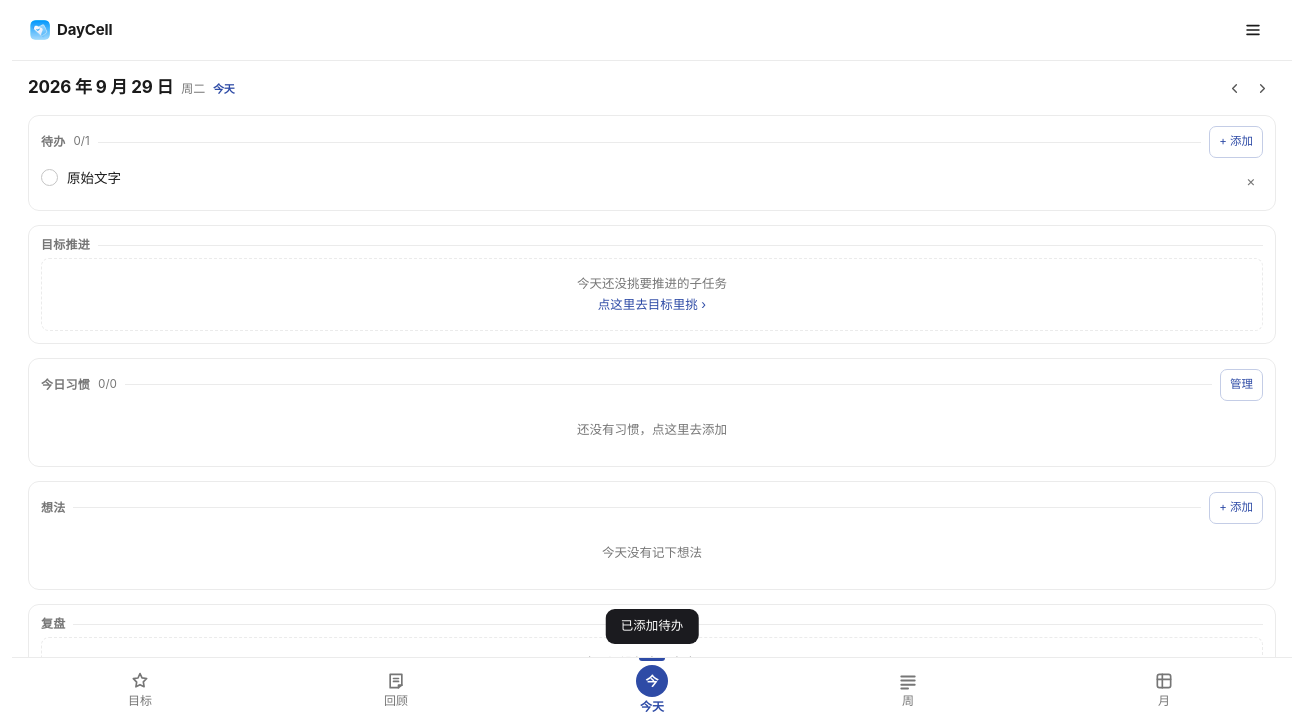
Test case: App 冒烟 › v8.91 就地编辑待办有「保存 / 取消」：保存写回、取消不写
Expected: the text "原始文字" is shown, [67,170,121,186]
Click the button with aria-label "编辑待办：原始文字" at (94, 178), box [63,166,1234,190]
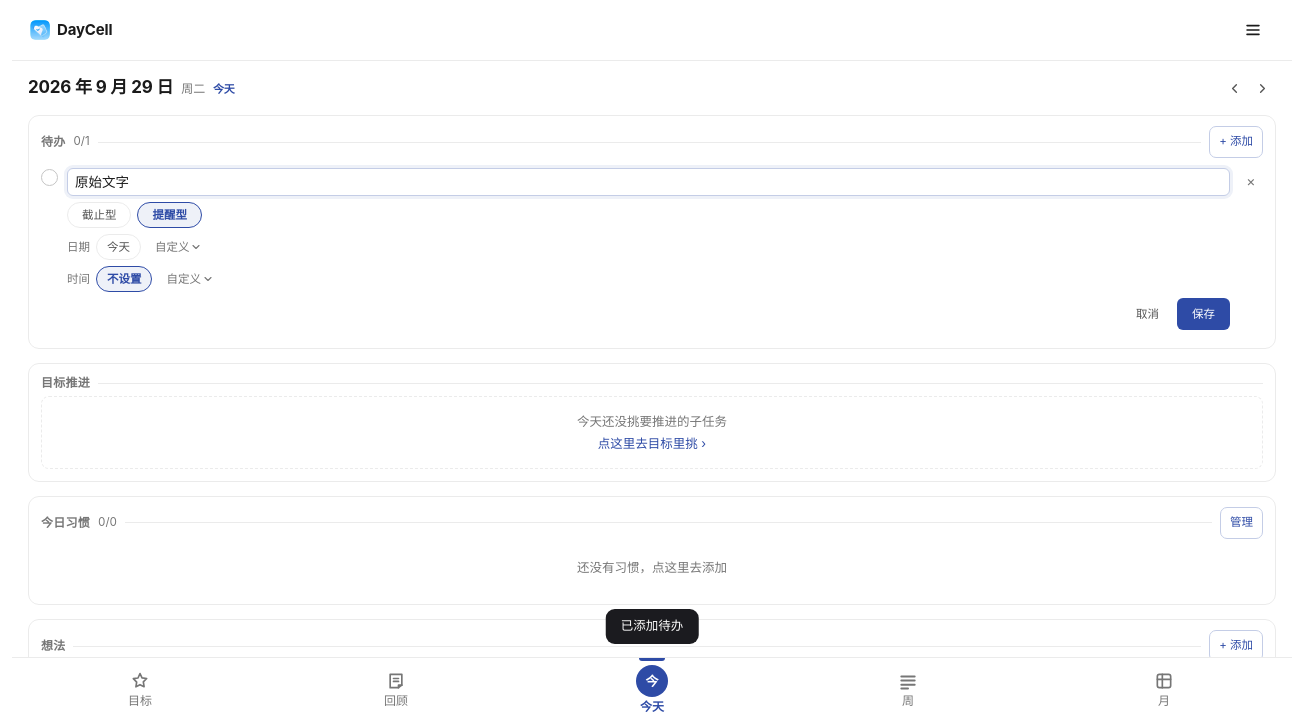
Replace the text in the field named "编辑待办" with "改后文字" at (648, 182), box [67,168,1230,196]
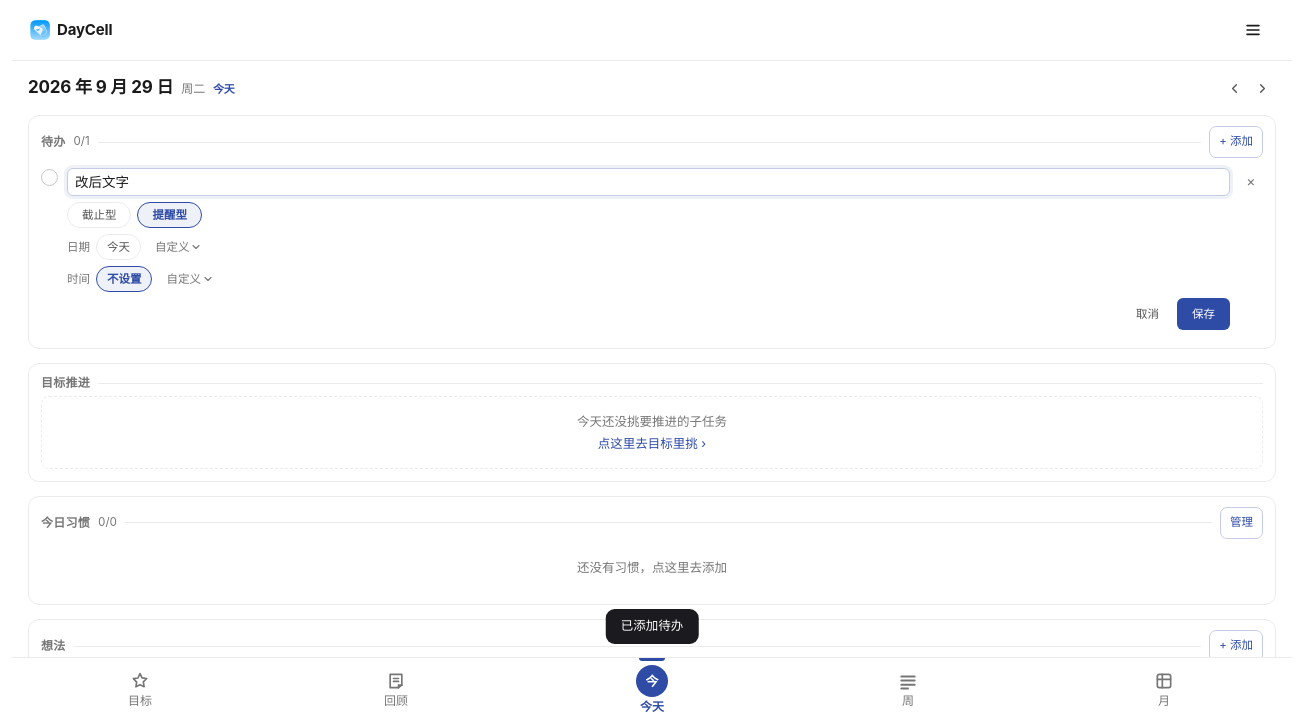
Click the button "保存" at (1204, 314), box [1177,298,1230,330]
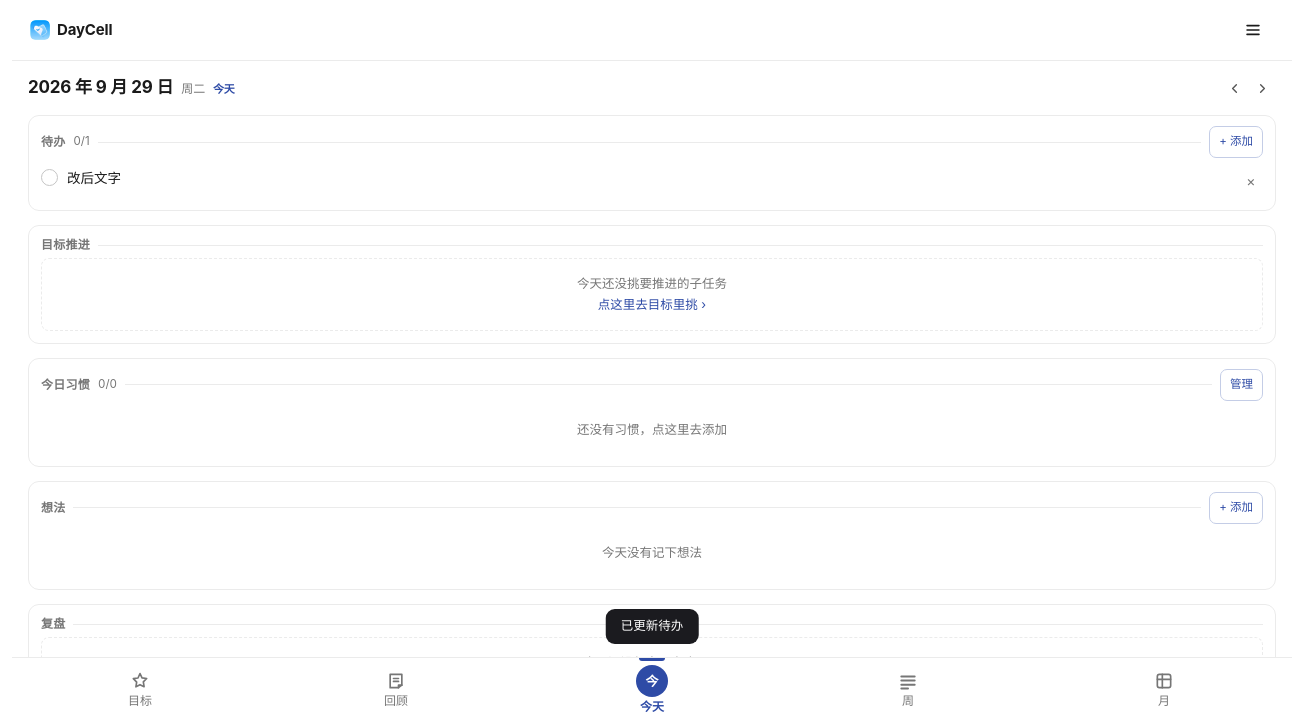
Result: the text "改后文字" is shown at [67,170,121,186]
Click the button with aria-label "编辑待办：改后文字" at (94, 178), box [63,166,1234,190]
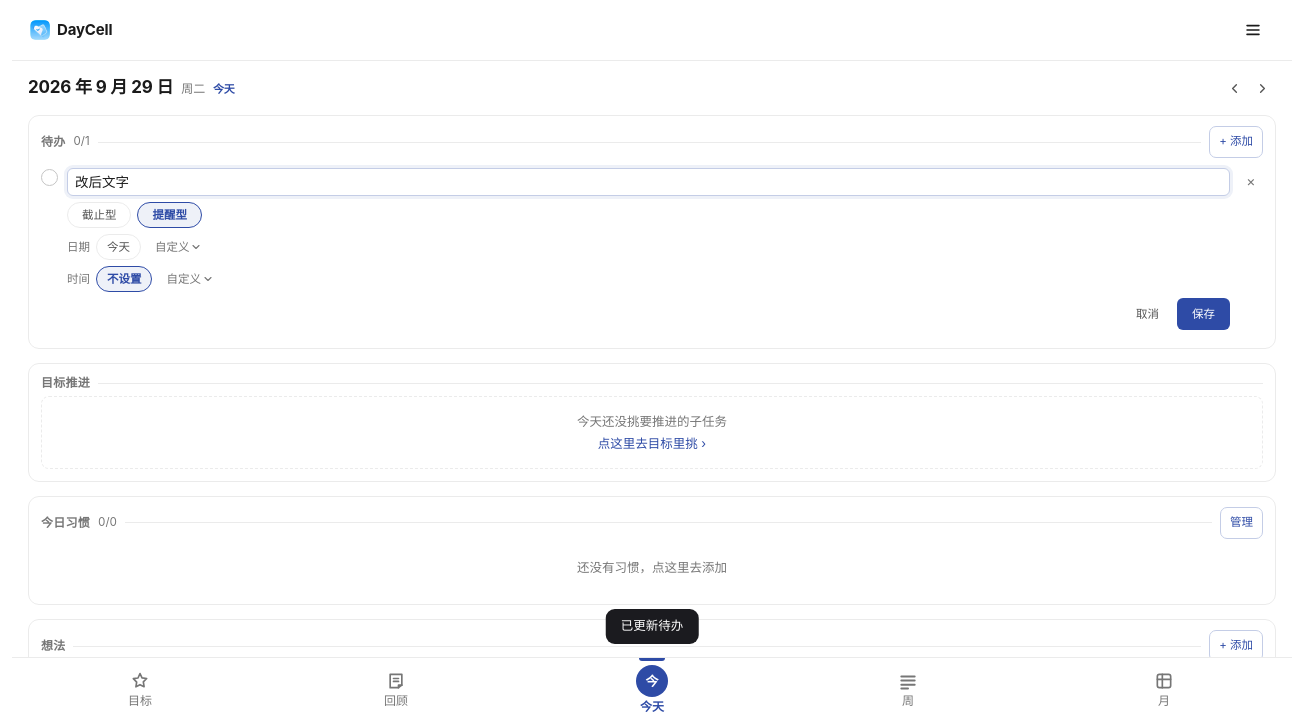
Replace the text in the field named "编辑待办" with "不该保存" at (648, 182), box [67,168,1230,196]
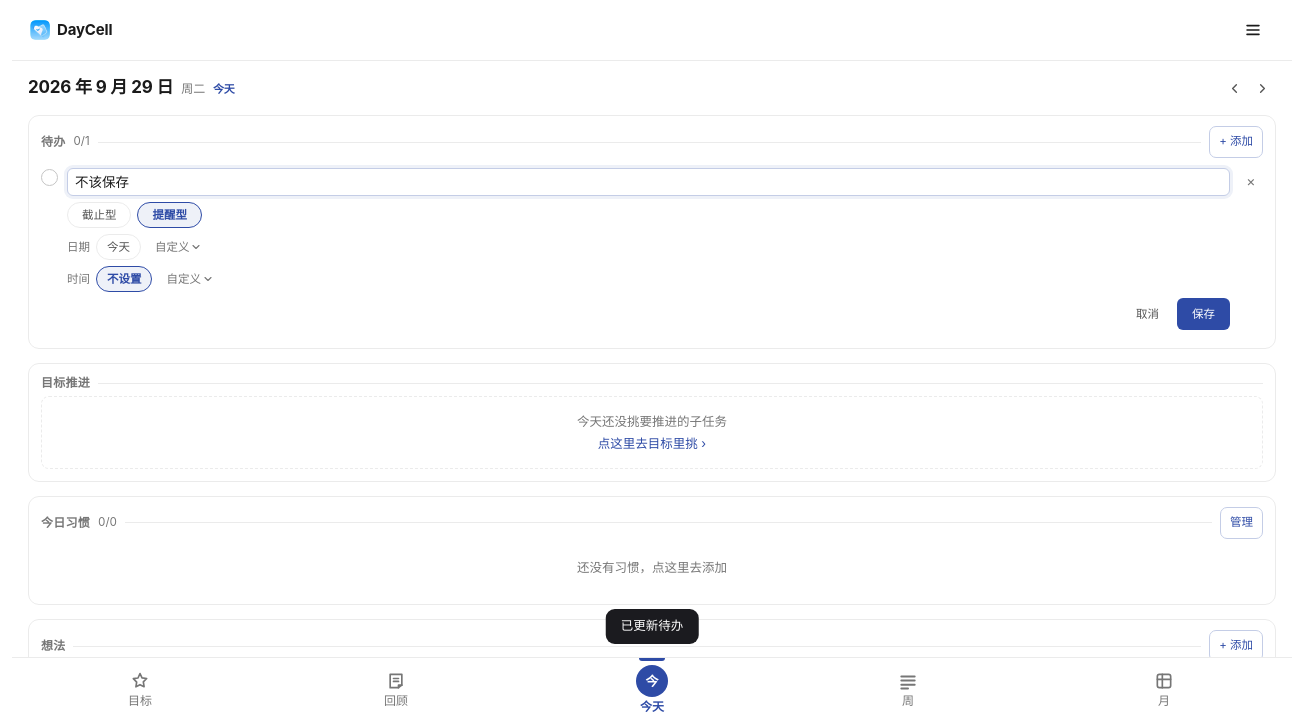
Click the button "取消" at (1148, 314), box [1125,298,1170,330]
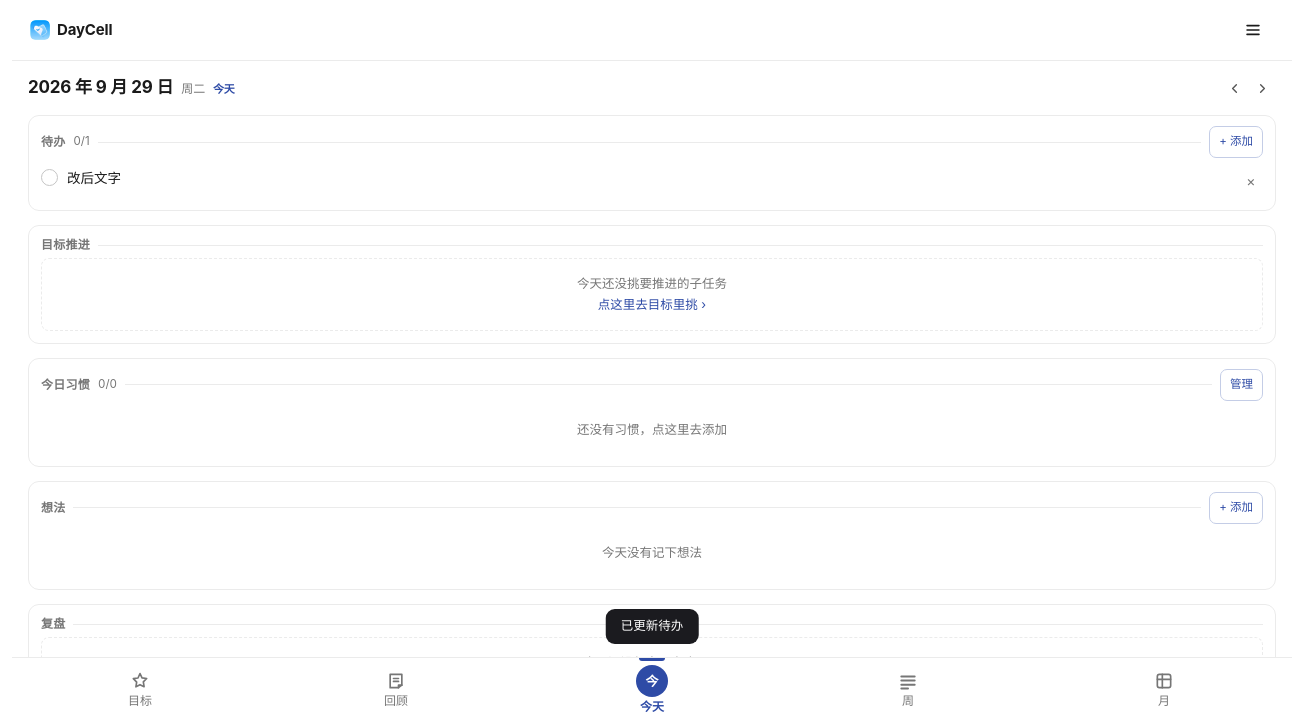
Expected: the text "不该保存" is not shown
Result: the text "改后文字" is shown at [67,170,121,186]
